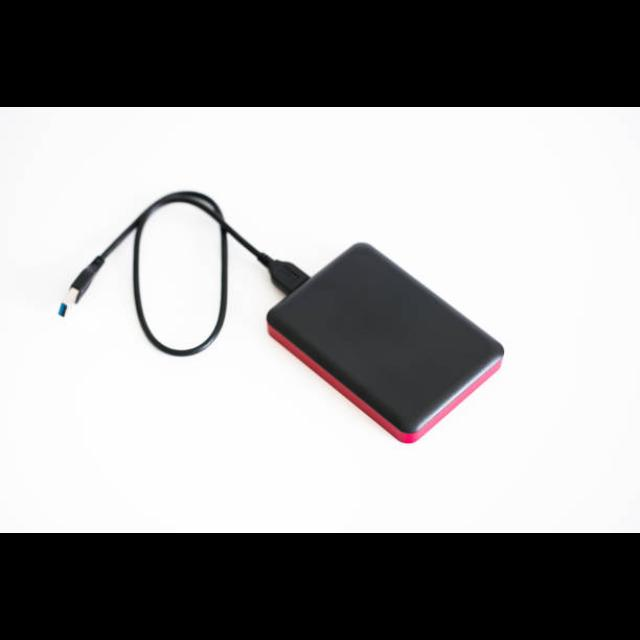HDD: (267, 243, 505, 446)
